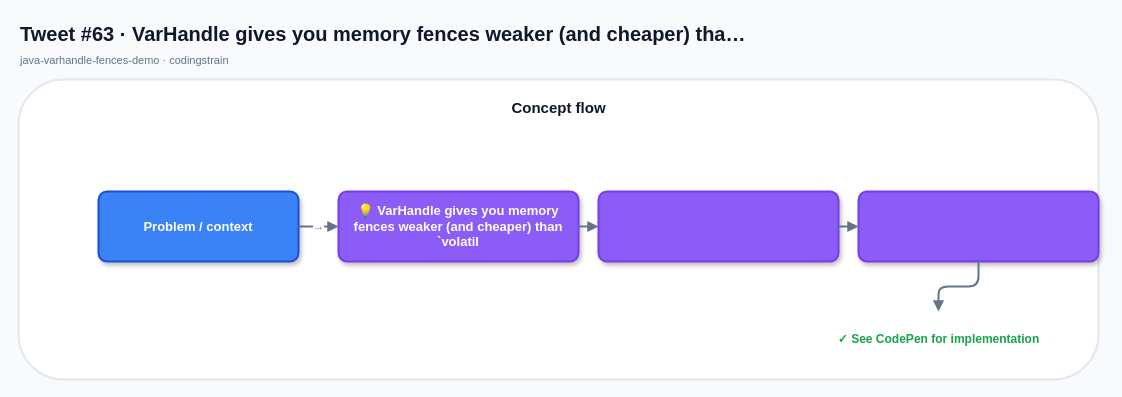
Some shapes in this 1122 by 397 pixel diagram are drawn without their labels. The shapes that lost their labels are listed below. From the top down, each one's centre as x and y in pixels, then its label:
the point at 719,227: setOpaque → single-writer ordering, no full barrier
the point at 979,227: setRelease → publish writes for others to see
